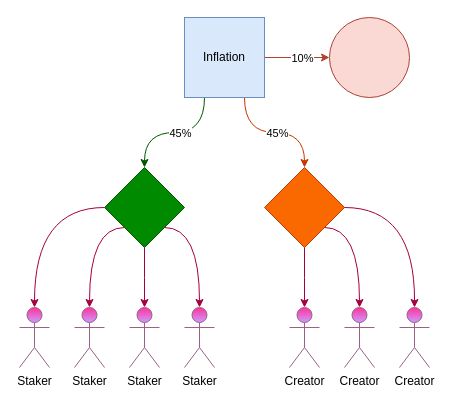
The diagram is 452 pixels wide and 406 high, and some of its shapes have lost their labels. Here are the shapes that lost their labels. From the top down, the box of each, then its label:
(328, 16, 410, 98): Treasury
(104, 166, 184, 248): Stakers
(264, 166, 344, 248): Creators
